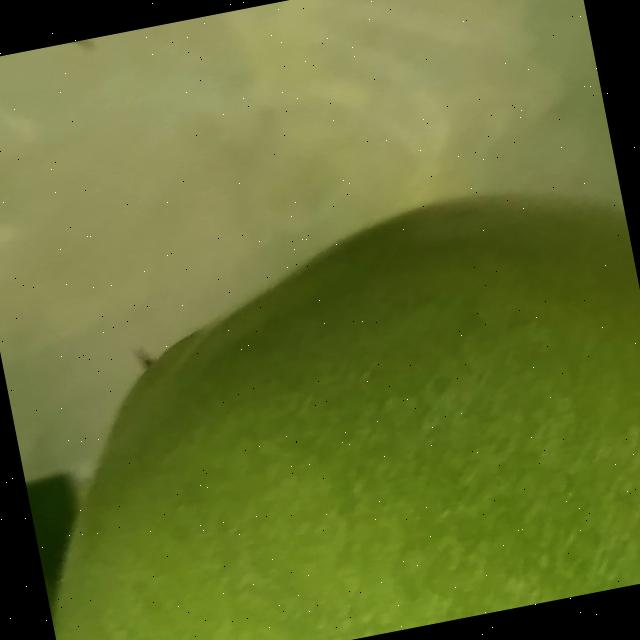tomato: (4, 249, 640, 640), (0, 0, 465, 322)
